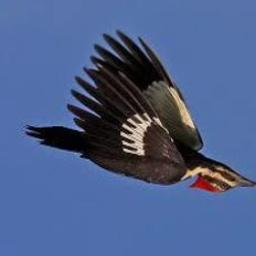Woodpecker: (24, 31, 256, 194)
